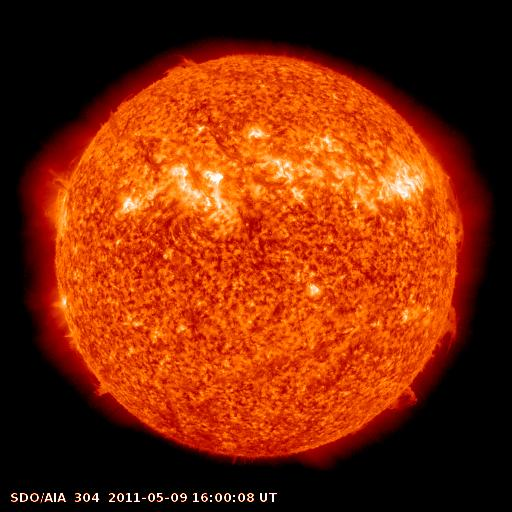prominence: (437, 162, 474, 255), (423, 300, 466, 361), (158, 49, 205, 83), (384, 381, 423, 412), (78, 378, 119, 402)
